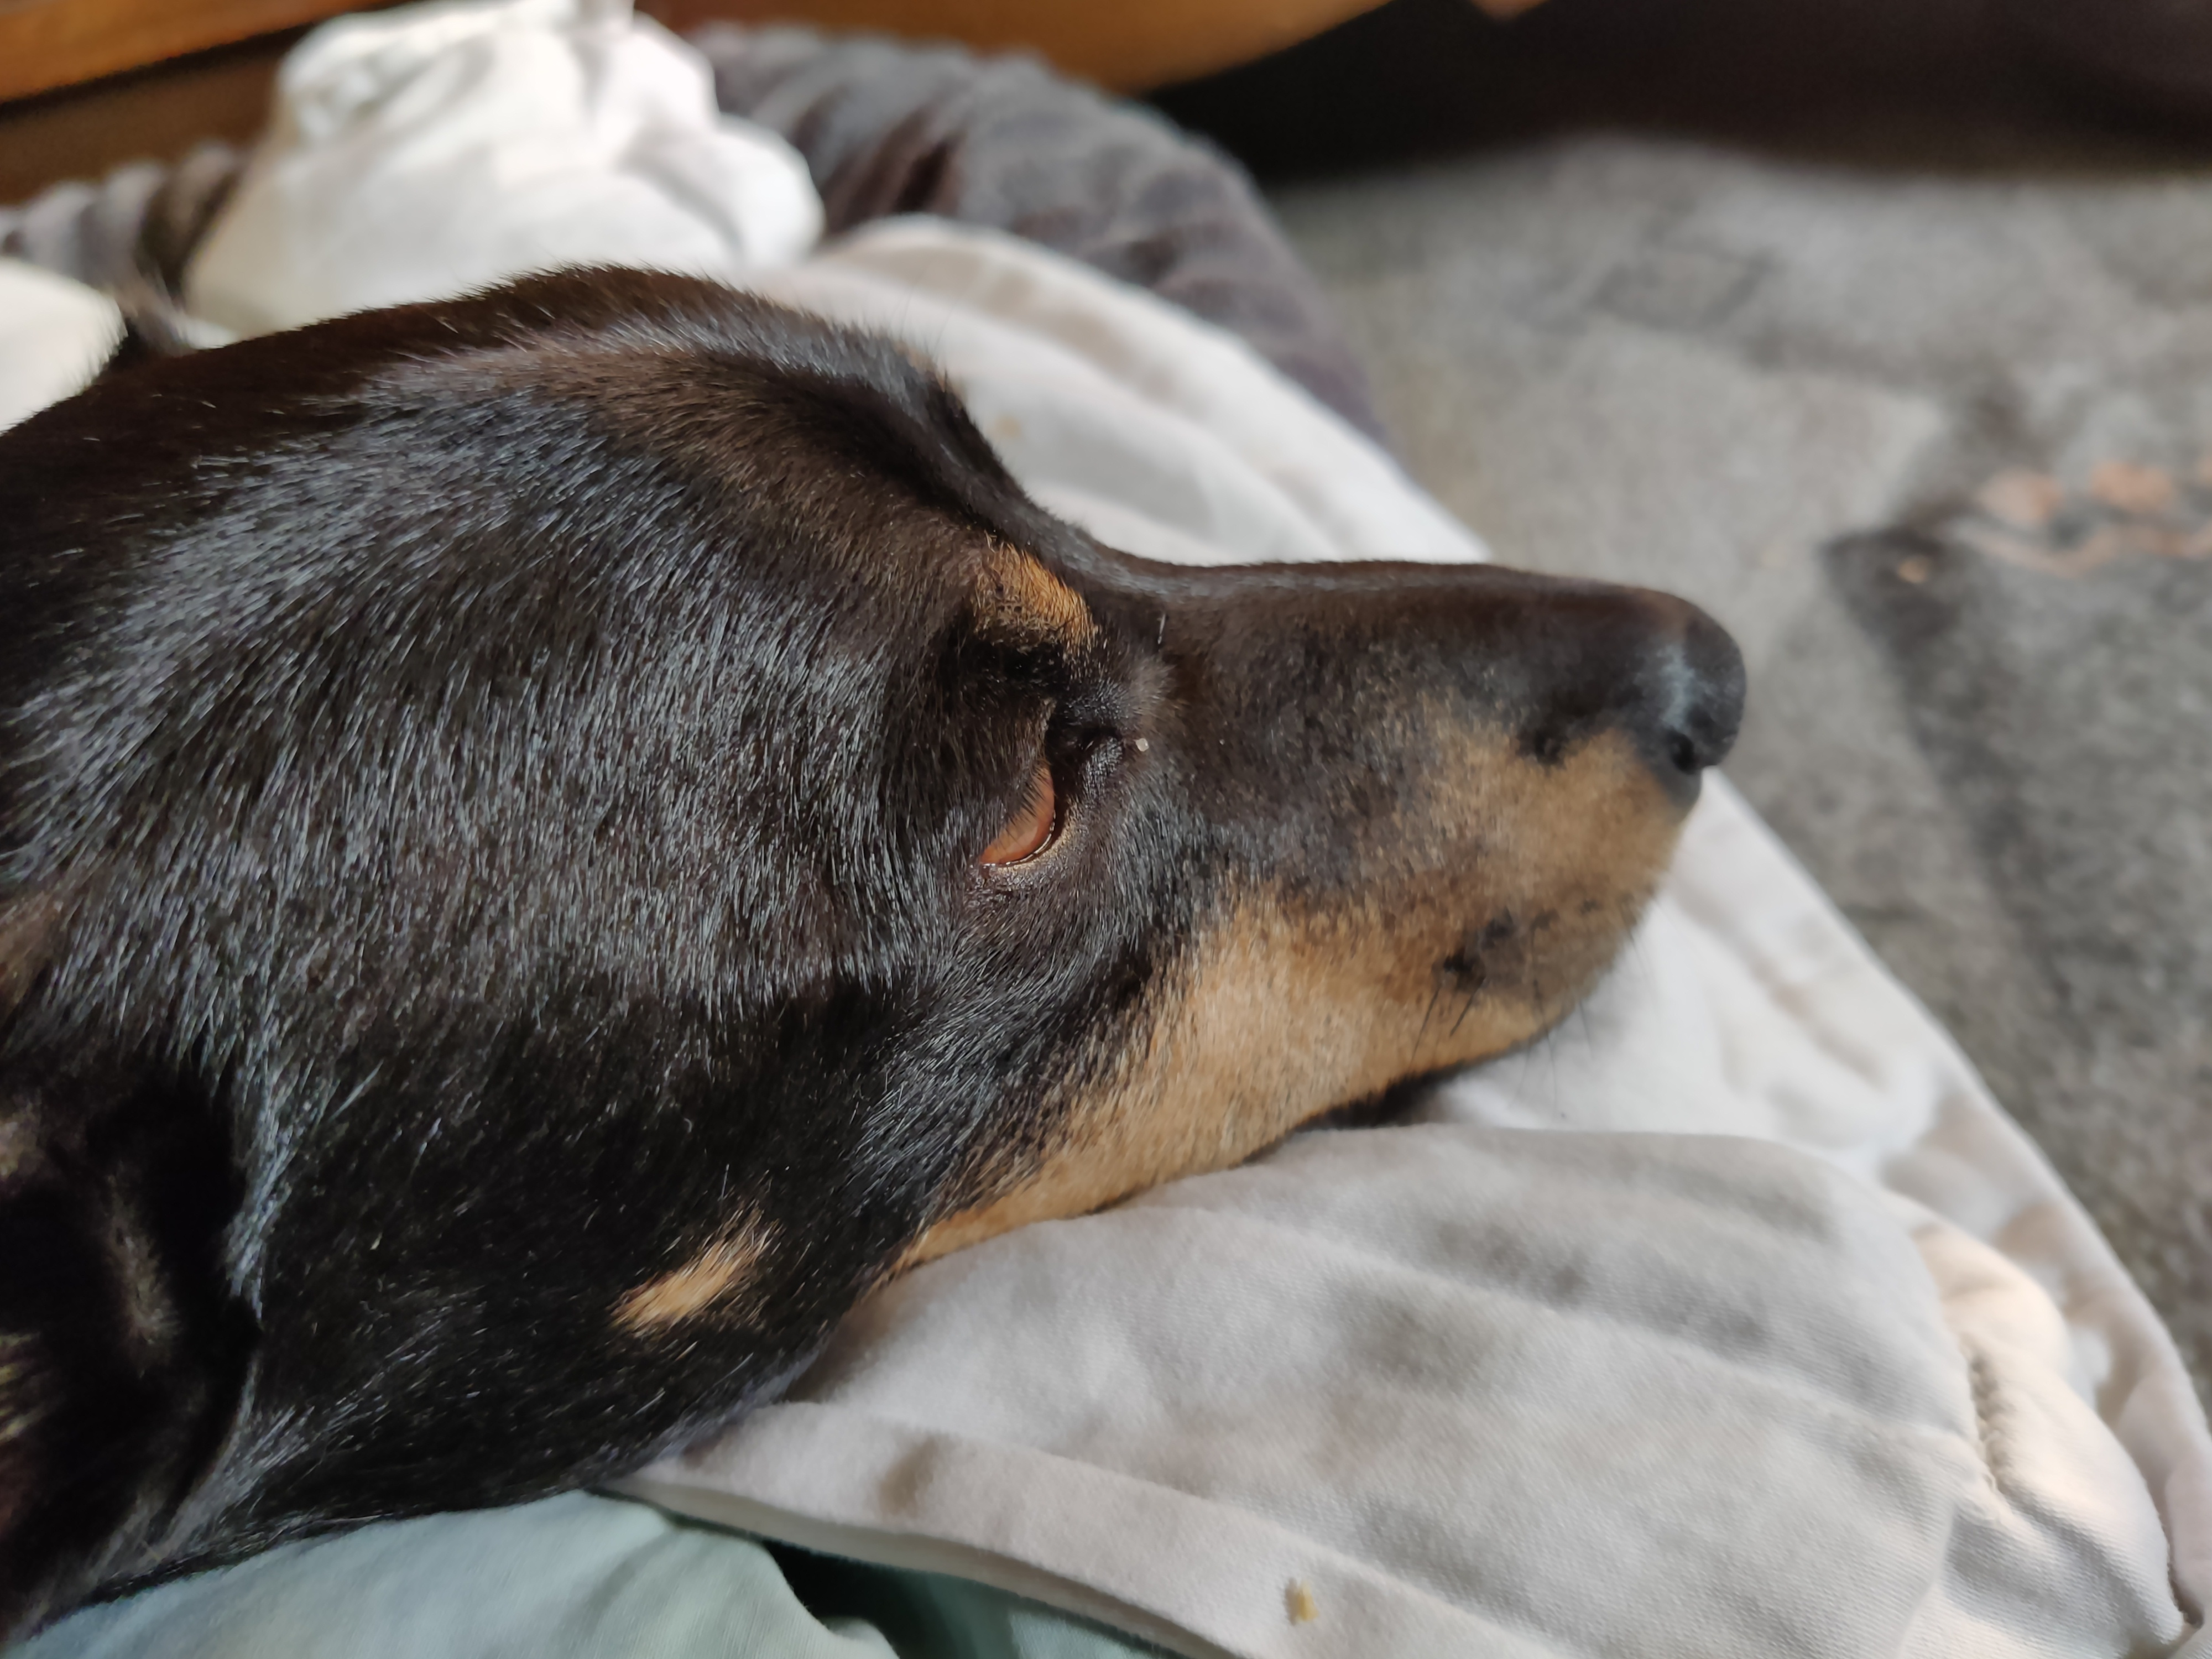Dog: (0, 251, 1757, 1650)
